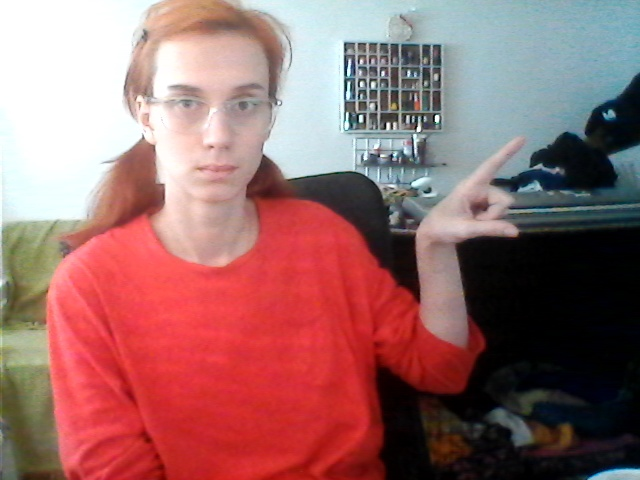on: (387, 130, 545, 397)
